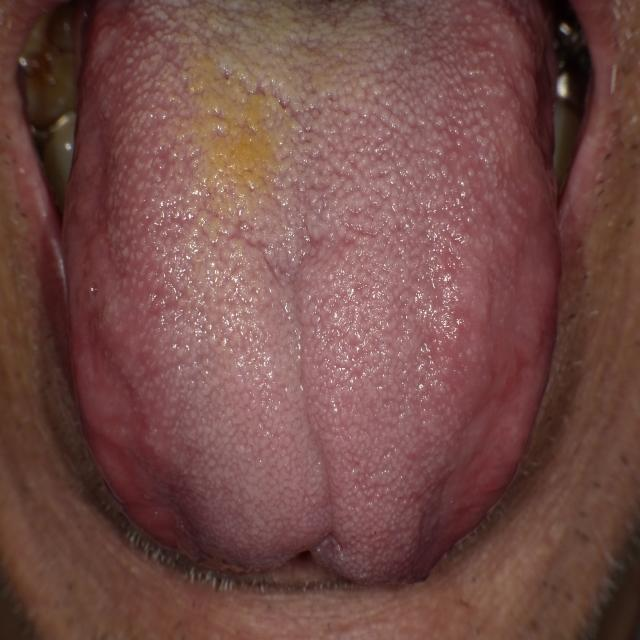gandanao: (64, 79, 197, 549)
huangtaishe: (63, 1, 559, 581)
xinfeiao: (238, 504, 378, 579)
